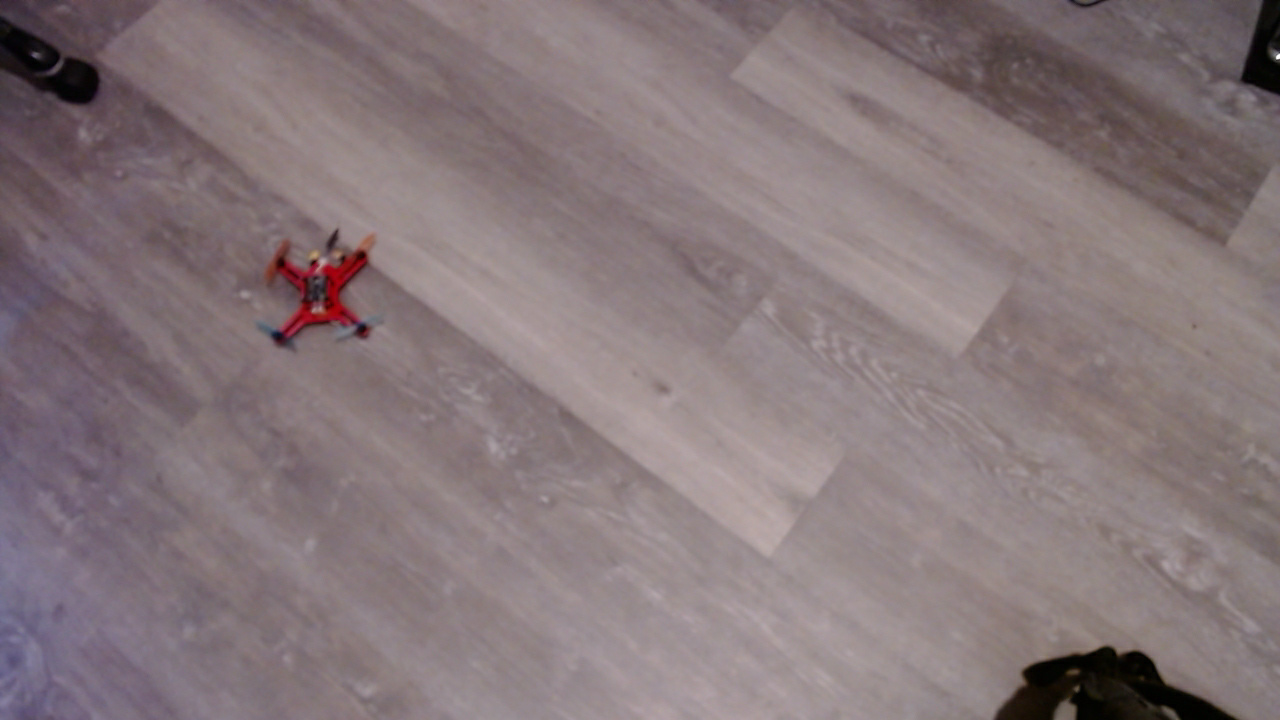crazyflie: (245, 226, 405, 383)
